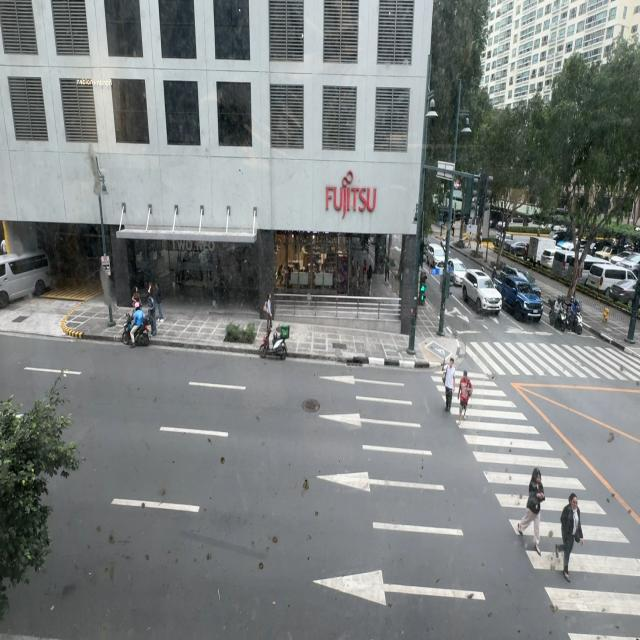crossing: (515, 464, 543, 550), (556, 492, 582, 580), (459, 368, 474, 420), (443, 358, 456, 412)
pedestrain: (154, 279, 164, 324), (264, 294, 273, 338)
